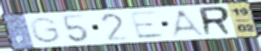2: (99, 12, 130, 42)
5: (59, 13, 92, 44)
A: (169, 8, 207, 38)
E: (127, 10, 167, 40)
G: (27, 16, 64, 45)
R: (198, 5, 236, 38)
